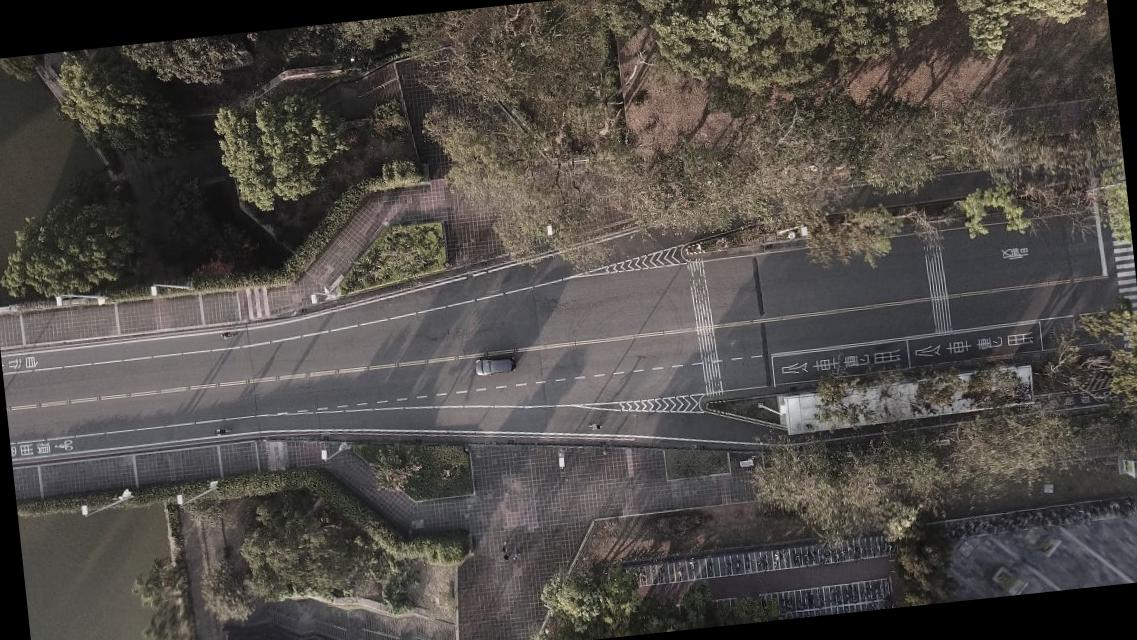vehicle: (474, 355, 516, 376)
